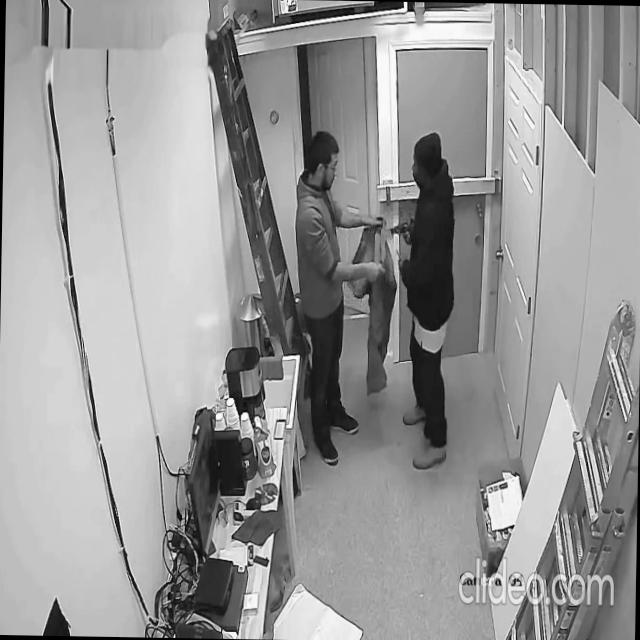gun: (388, 218, 411, 242)
person: (291, 128, 388, 469), (394, 130, 458, 472)
person with a gun: (386, 129, 457, 475)
